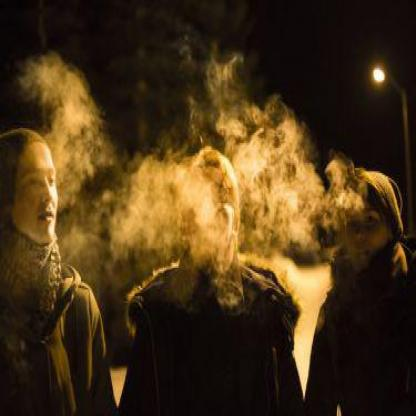smoke: (30, 59, 356, 262)
